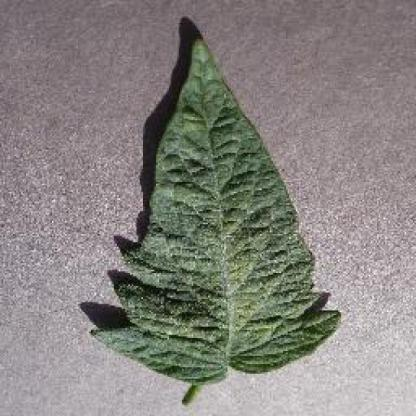Tomato_Spider_Mites: (90, 39, 340, 378)
